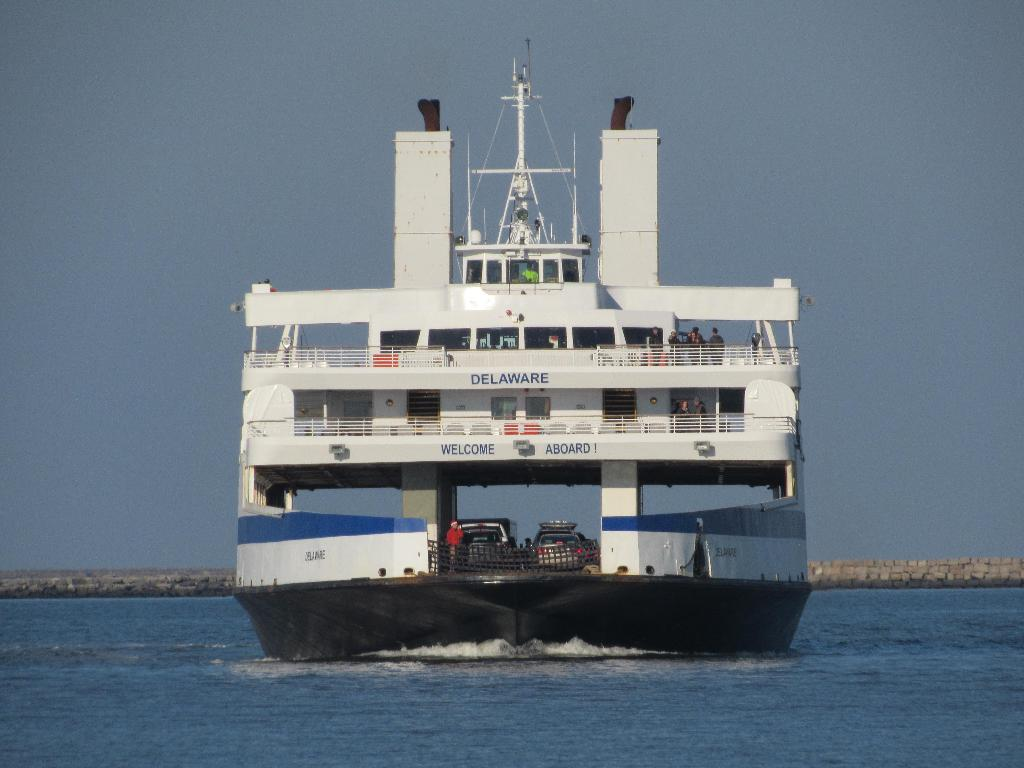PassengerShip: (224, 54, 820, 672)
